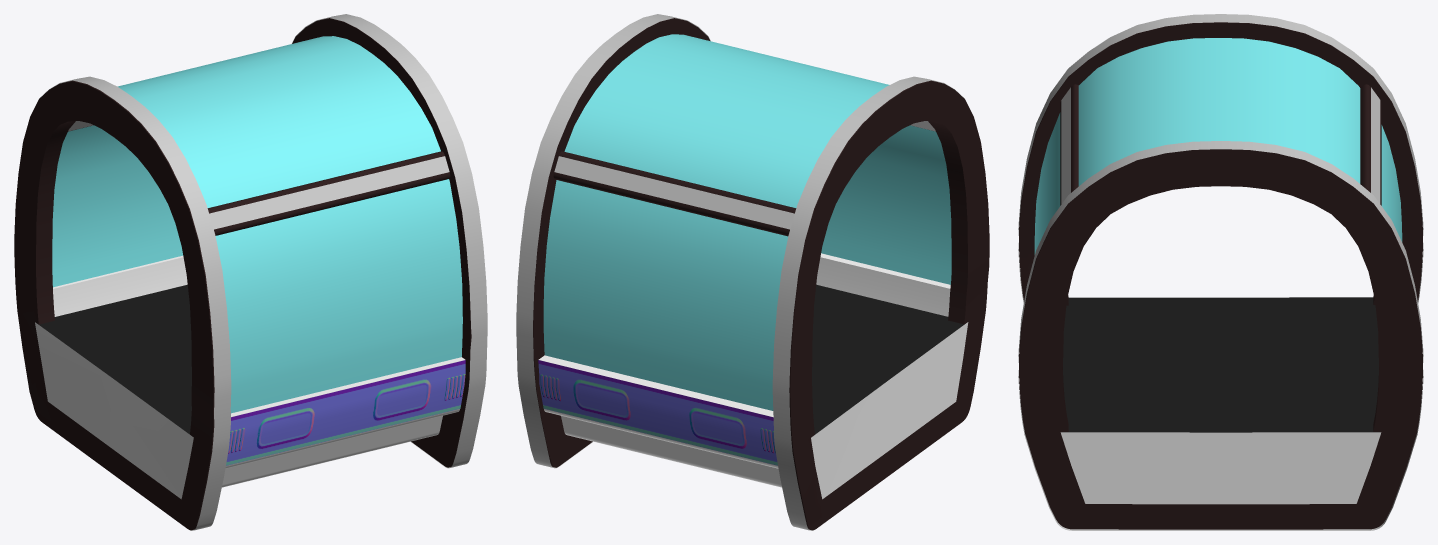
The model's file is S_assete_corridor_2.fbx.
The picture shows the model from 3 angles, left to right: view 1: azimuth 30°, elevation 25°; view 2: azimuth 150°, elevation 25°; view 3: azimuth 270°, elevation 25°; orthographic projection.
Visible parts, largest first — view 1: couloir_volent; view 2: couloir_volent; view 3: couloir_volent.
Boxes of the visible parts, <box> form: couloir_volent: <box>14,14,487,530</box>; couloir_volent: <box>516,14,989,530</box>; couloir_volent: <box>1018,14,1423,530</box>.
Bounding box in the file's own units: 403 × 527 × 508.
